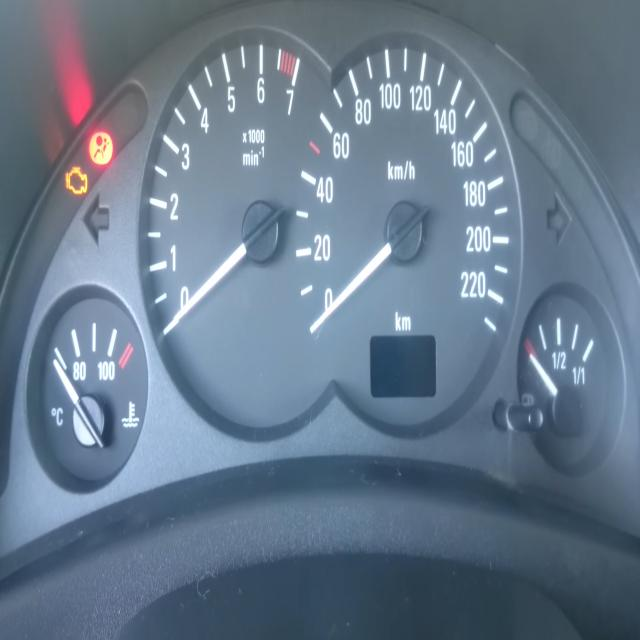Check Engine: (65, 166, 88, 195)
SRS-Airbag: (88, 130, 114, 166)
